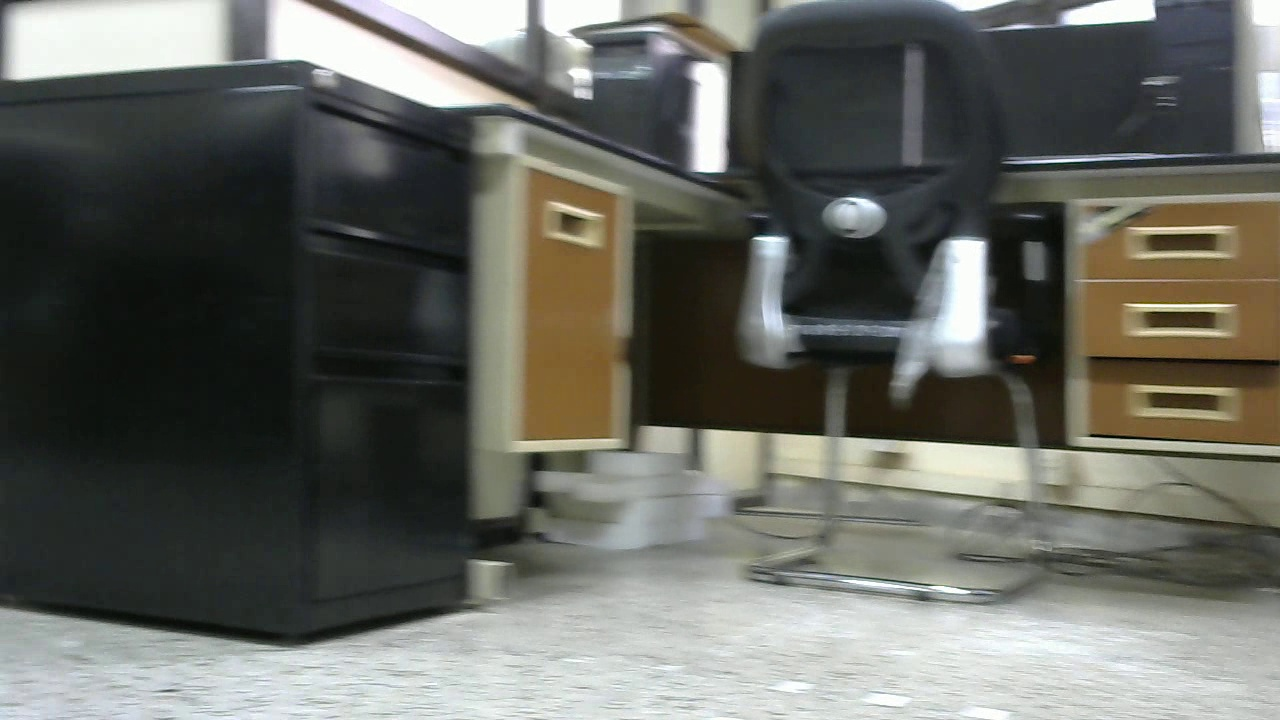chair: (736, 9, 1057, 610)
